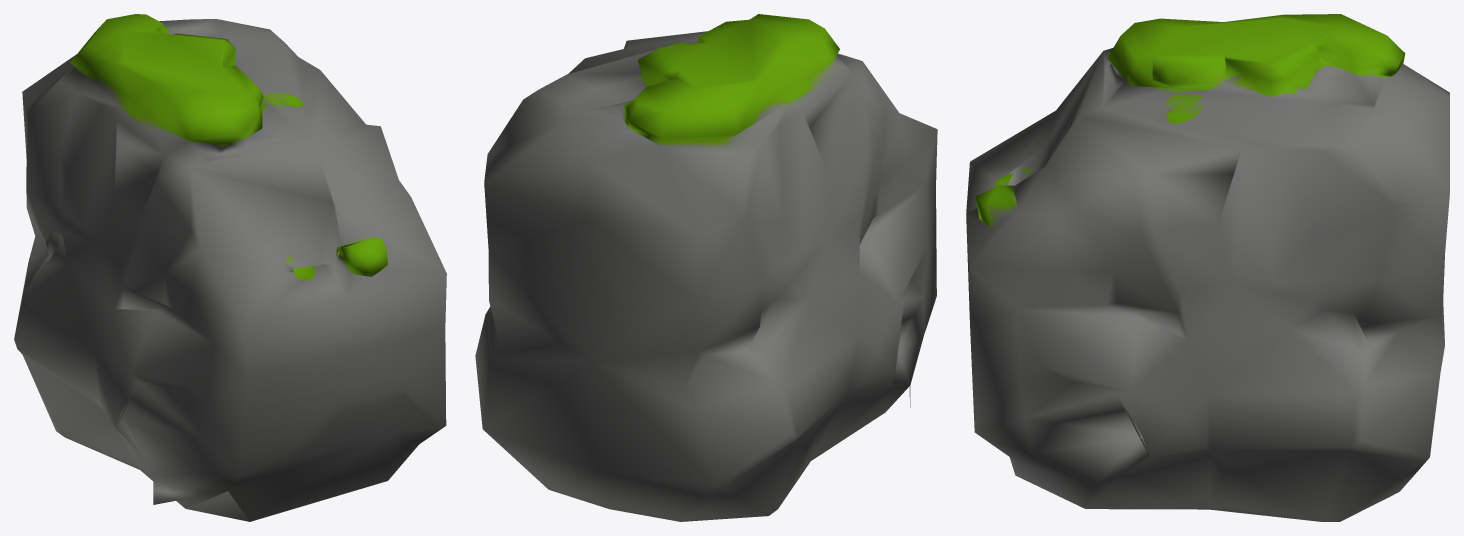
3 views of the same model, side by side, from view 1: azimuth 30°, elevation 25°; view 2: azimuth 150°, elevation 25°; view 3: azimuth 270°, elevation 25° (orthographic). The views are drawn at different scales.
Parts seen in each view (by area): view 1: tripo_node_b593ee64-7d96-4cec-8974-f6474eeabef8; view 2: tripo_node_b593ee64-7d96-4cec-8974-f6474eeabef8; view 3: tripo_node_b593ee64-7d96-4cec-8974-f6474eeabef8.
Part boxes in pixels (x1,y1,x2,y2): tripo_node_b593ee64-7d96-4cec-8974-f6474eeabef8: (14,14,446,521); tripo_node_b593ee64-7d96-4cec-8974-f6474eeabef8: (475,14,937,521); tripo_node_b593ee64-7d96-4cec-8974-f6474eeabef8: (966,14,1449,521).
Bounding box in the file's own units: 0.7613 × 0.9335 × 1.
1 material, 1 textured.
